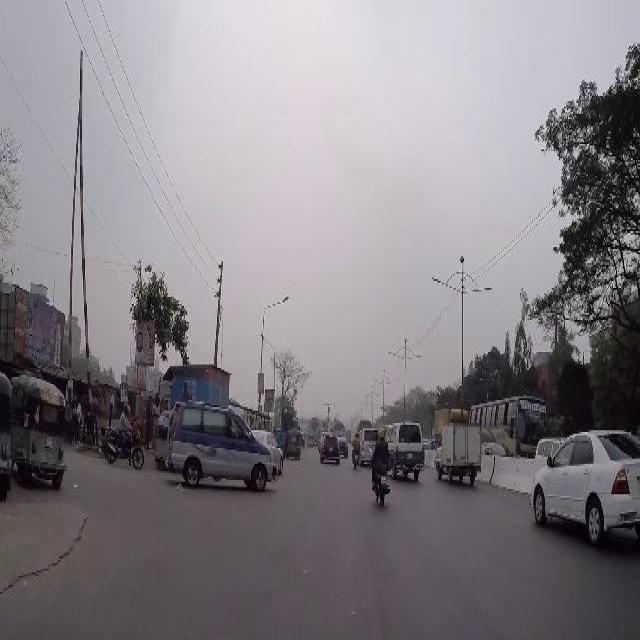bus: (467, 393, 546, 455)
car: (527, 425, 638, 537), (167, 393, 277, 491), (252, 427, 283, 473), (318, 434, 339, 464)
motorcycle: (10, 370, 67, 490), (101, 402, 143, 473), (368, 427, 391, 505), (286, 425, 299, 460), (350, 430, 359, 468), (305, 430, 312, 446)
truck: (434, 419, 481, 482), (384, 418, 425, 476), (359, 425, 378, 464), (533, 434, 563, 457)
